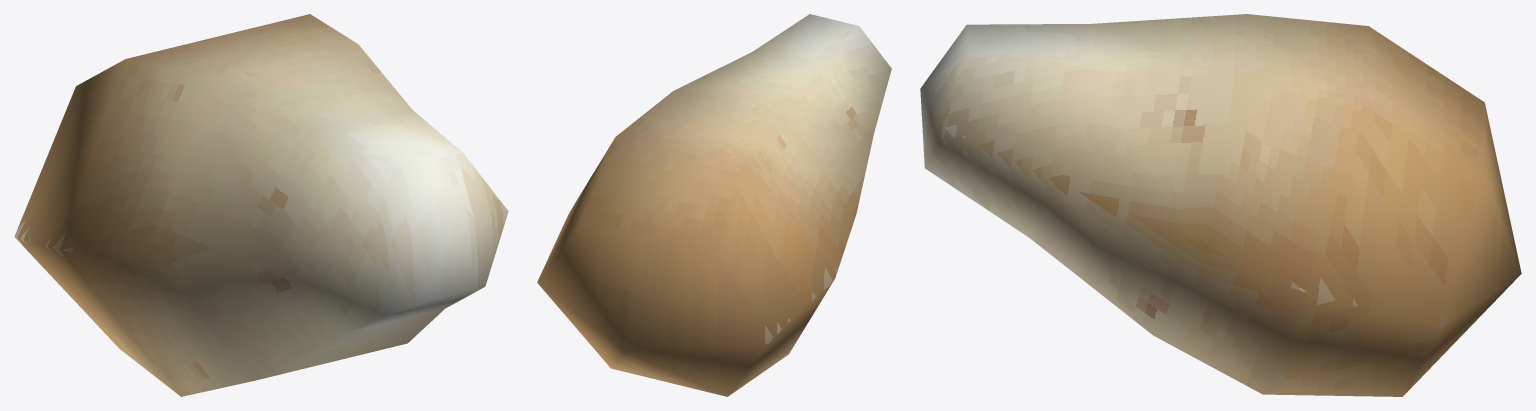
The model's file is EggBeam.fbx.
3 views of the same model, side by side, from view 1: azimuth 30°, elevation 25°; view 2: azimuth 150°, elevation 25°; view 3: azimuth 270°, elevation 25° (orthographic). The views are drawn at different scales.
Visible parts, largest first — view 1: EggBeam; view 2: EggBeam; view 3: EggBeam.
Part boxes in pixels (x1,y1,x2,y2): EggBeam: (14, 14, 508, 396); EggBeam: (537, 14, 891, 396); EggBeam: (920, 14, 1521, 396).
Bounding box in the file's own units: 1.6 × 1.38 × 2.37.
